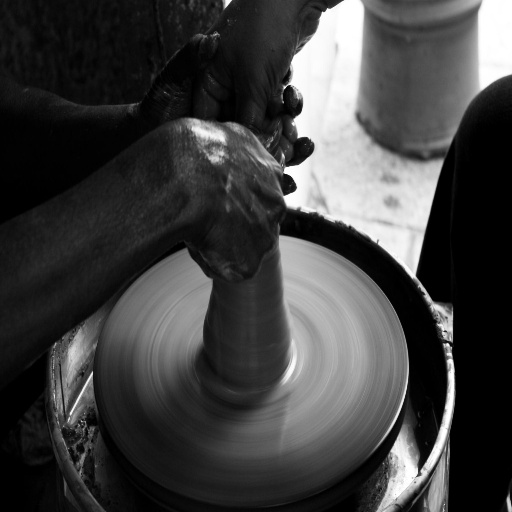hand: (0, 111, 315, 310), (139, 31, 314, 196)
